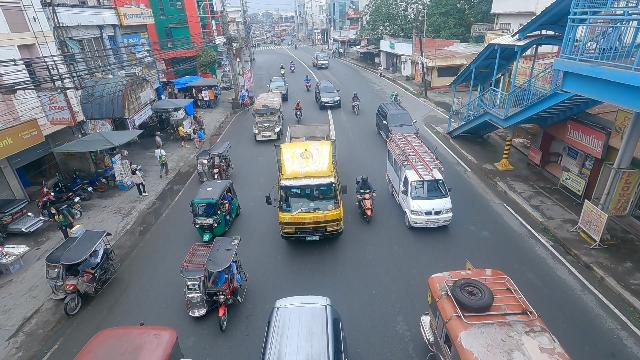car: (373, 101, 420, 143), (313, 78, 343, 112), (267, 76, 288, 101)
jeepney: (253, 91, 282, 144)
motorcycle: (352, 174, 377, 223), (293, 101, 304, 125), (351, 92, 361, 117), (303, 76, 312, 93), (394, 95, 403, 105), (289, 61, 295, 74), (279, 65, 285, 77), (294, 44, 298, 50)
truck: (275, 120, 349, 245), (311, 51, 330, 71)
van: (386, 132, 455, 234)
